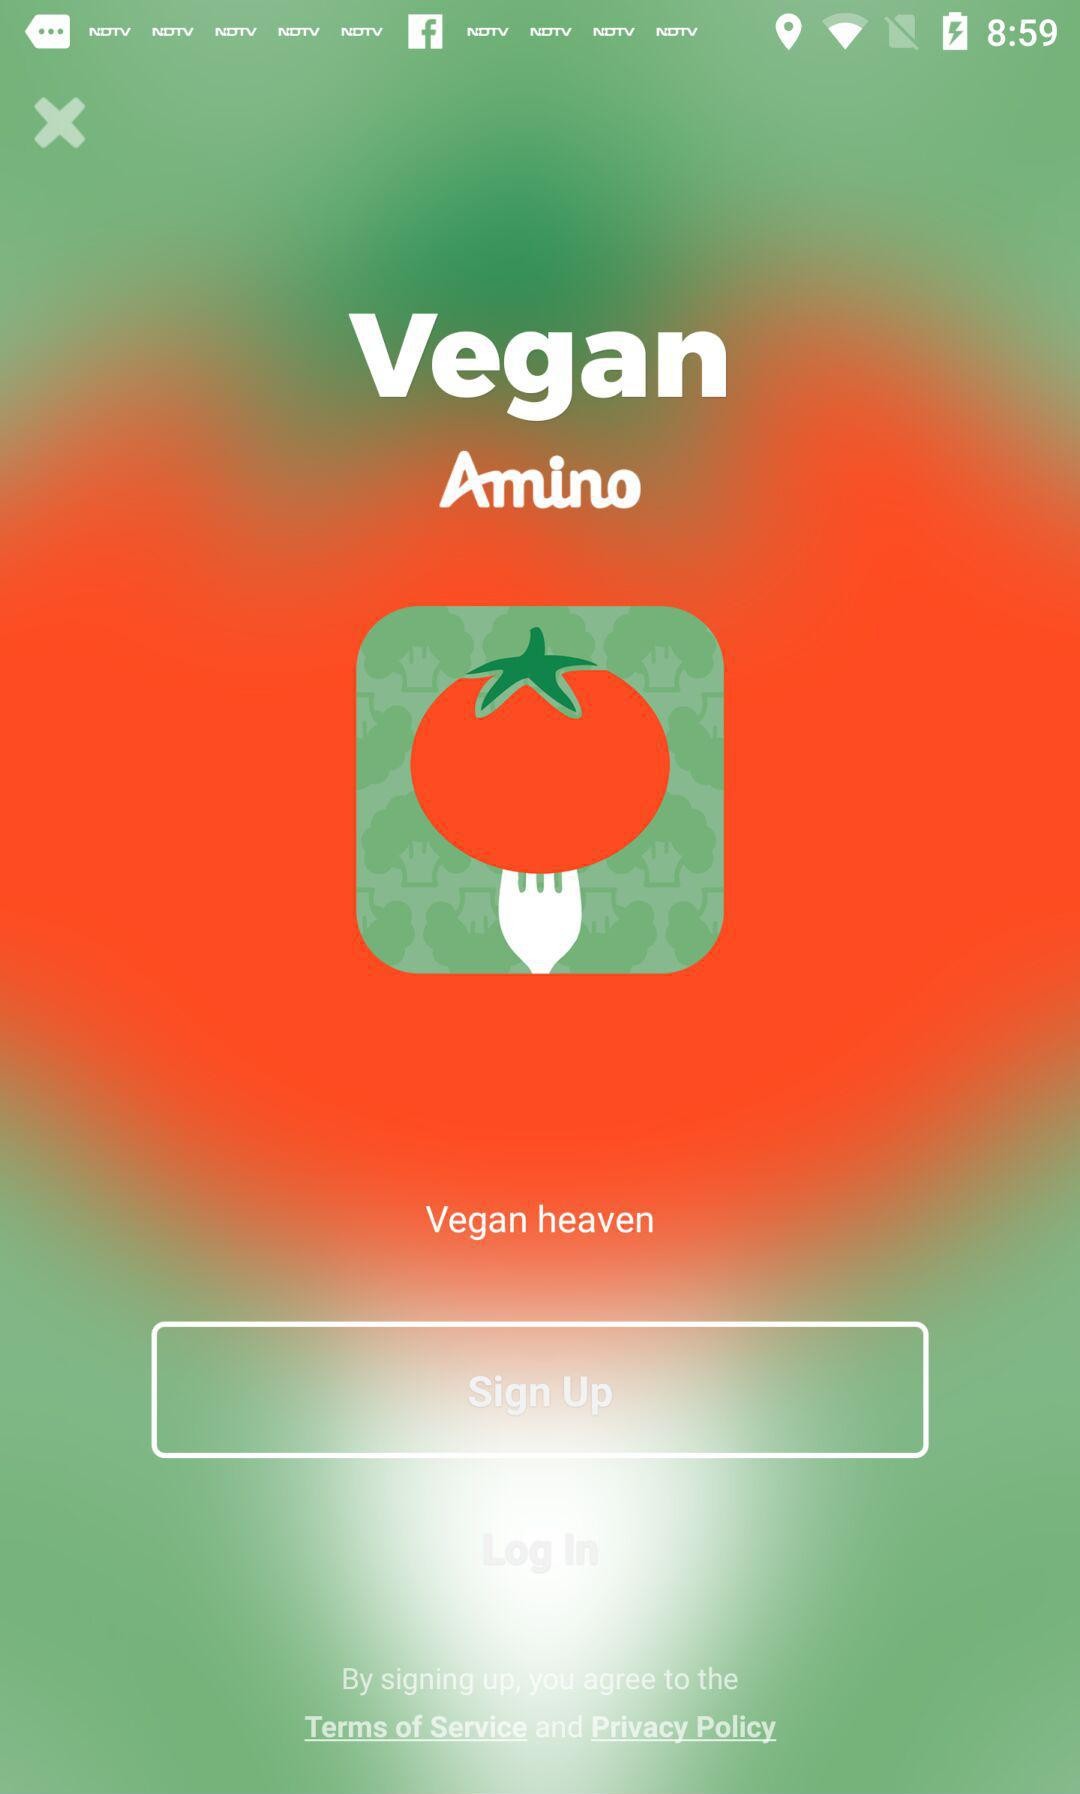Icon: (35, 97, 88, 151)
Image: (356, 606, 725, 975), (439, 450, 643, 511)
Text: (348, 313, 726, 424), (304, 1665, 778, 1745), (425, 1203, 653, 1242), (482, 1533, 600, 1575)
TextButton: (151, 1321, 930, 1460)
UpperTaskBar: (1, 1, 1080, 53)
